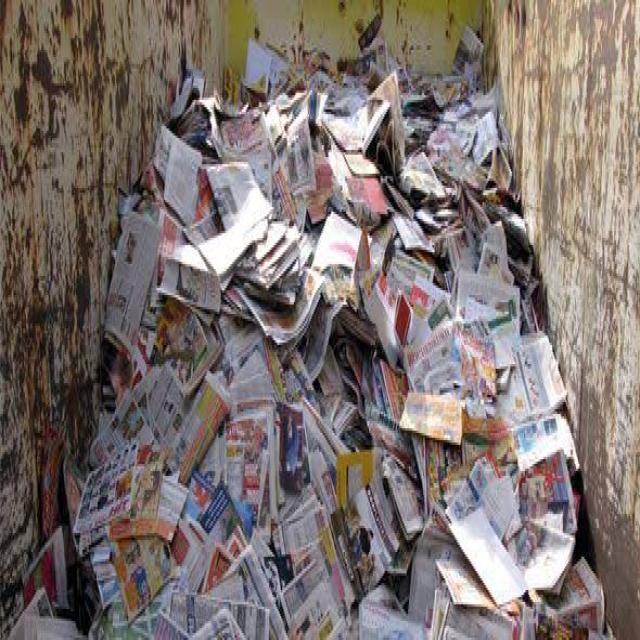Kertas: (86, 56, 570, 627)
